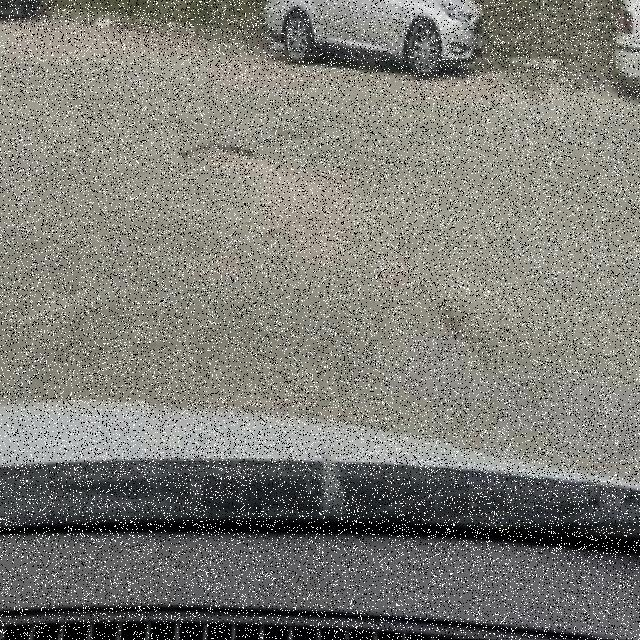pothole: (180, 144, 260, 167)
